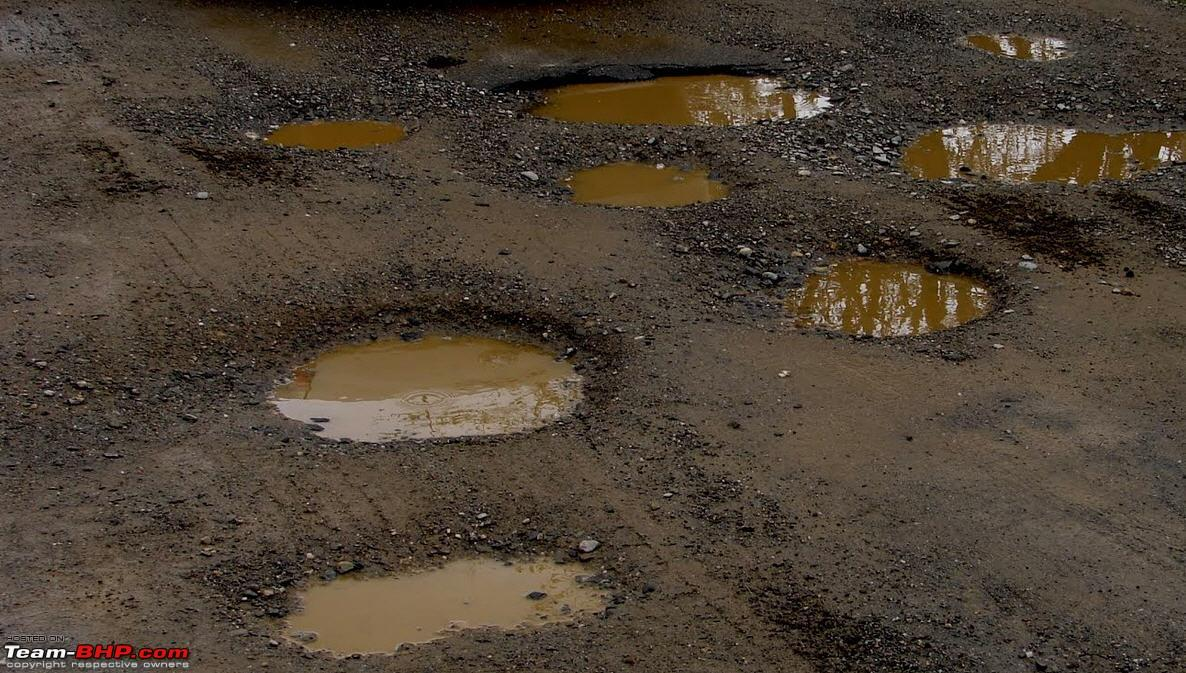pothole: (262, 258, 599, 466), (243, 514, 645, 667), (506, 45, 874, 143), (896, 81, 1173, 198), (755, 234, 991, 344), (243, 93, 427, 148), (936, 9, 1077, 67)
